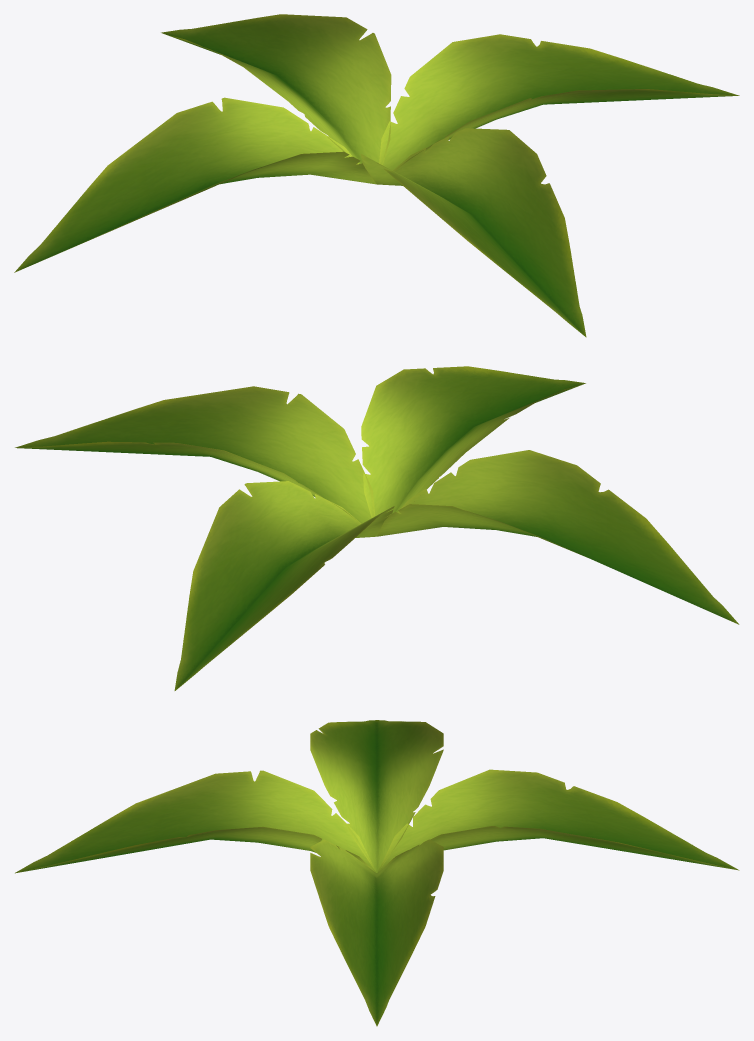
File: H_Leaf2.fbx
3 views of the same model, one above another, from view 1: azimuth 30°, elevation 25°; view 2: azimuth 150°, elevation 25°; view 3: azimuth 270°, elevation 25° (orthographic). The views are drawn at different scales.
Visible parts, largest first — view 1: Low.003, Low.001, Low.004, Low.005; view 2: Low.003, Low.001, Low.005, Low.004; view 3: Low.004, Low.005, Low.001, Low.003.
Part boxes in pixels (x1,y1,x2,y2): Low.003: [14, 97, 376, 272]; Low.001: [379, 34, 739, 171]; Low.004: [361, 128, 586, 337]; Low.005: [161, 14, 391, 164]; Low.003: [377, 450, 739, 624]; Low.001: [15, 386, 375, 523]; Low.005: [174, 481, 394, 690]; Low.004: [361, 366, 585, 517]; Low.004: [15, 770, 376, 873]; Low.005: [377, 769, 739, 872]; Low.001: [310, 839, 443, 1026]; Low.003: [310, 720, 443, 872].
Bounding box in the file's own units: 607 × 69.14 × 607.
1 material, 1 textured.
